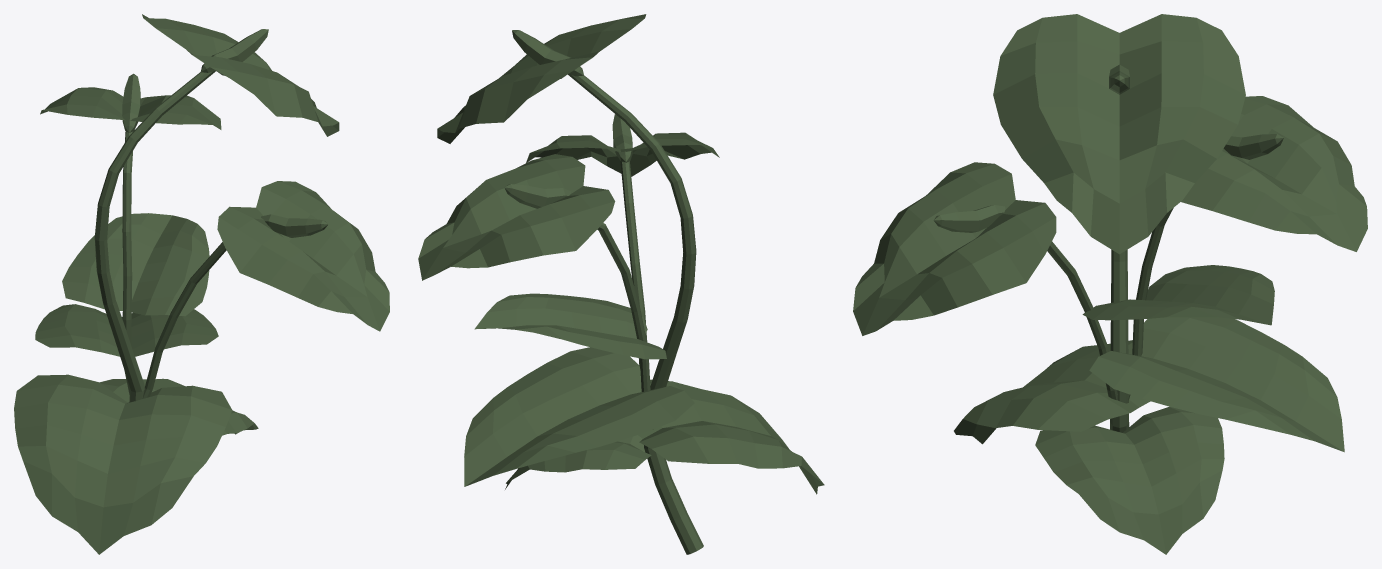
Rendered from RedFlower.fbx.
The picture shows the model from 3 angles, left to right: view 1: azimuth 30°, elevation 25°; view 2: azimuth 150°, elevation 25°; view 3: azimuth 270°, elevation 25°; orthographic projection. The views are drawn at different scales.
Parts seen in each view (by area): view 1: pPlane5, pasted__pasted__pPlane1, pPlane4, pPlane1, pPlane3, sweep2, pasted__pPlane1, sweep3, pasted__sweep3, pPlane6, pasted__pasted__pSphere1, pSphere1 (+1 smaller); view 2: pPlane3, pasted__pPlane1, pPlane5, pPlane4, sweep2, pPlane1, pasted__pasted__pPlane1, pPlane6, sweep3, pasted__sweep3, pasted__pSphere1, pSphere1 (+1 smaller); view 3: pPlane1, pasted__pasted__pPlane1, pPlane3, pPlane6, pasted__pPlane1, pPlane5, pPlane4, sweep2, sweep3, pasted__sweep3, pasted__pasted__pSphere1, pasted__pSphere1.
Boxes of the visible parts, x1,y1,x2,y2 form: pPlane5: [14, 374, 232, 554]; pasted__pasted__pPlane1: [217, 181, 389, 331]; pPlane4: [62, 213, 209, 316]; pPlane1: [142, 14, 339, 136]; pPlane3: [35, 304, 218, 356]; sweep2: [94, 70, 216, 402]; pasted__pPlane1: [40, 87, 221, 129]; sweep3: [122, 131, 132, 396]; pasted__sweep3: [142, 242, 226, 398]; pPlane6: [99, 378, 258, 435]; pasted__pasted__pSphere1: [261, 214, 328, 237]; pSphere1: [200, 29, 268, 72]; pPlane3: [464, 347, 694, 486]; pasted__pPlane1: [418, 154, 615, 280]; pPlane5: [638, 379, 824, 494]; pPlane4: [474, 293, 666, 359]; sweep2: [568, 74, 703, 554]; pPlane1: [437, 14, 646, 143]; pasted__pasted__pPlane1: [526, 132, 719, 176]; pPlane6: [505, 435, 651, 489]; sweep3: [597, 223, 650, 391]; pasted__sweep3: [620, 161, 647, 370]; pasted__pSphere1: [504, 184, 571, 208]; pSphere1: [512, 30, 583, 76]; pPlane1: [993, 14, 1245, 254]; pasted__pasted__pPlane1: [853, 162, 1056, 335]; pPlane3: [1089, 317, 1344, 452]; pPlane6: [1035, 406, 1224, 554]; pasted__pPlane1: [1181, 96, 1367, 251]; pPlane5: [954, 340, 1150, 444]; pPlane4: [1082, 265, 1274, 325]; sweep2: [1110, 249, 1129, 432]; sweep3: [1127, 208, 1173, 400]; pasted__sweep3: [1047, 241, 1117, 400]; pasted__pasted__pSphere1: [933, 205, 1005, 232]; pasted__pSphere1: [1223, 134, 1283, 159].
Bounding box in the file's own units: 3.29 × 4.57 × 3.97.
